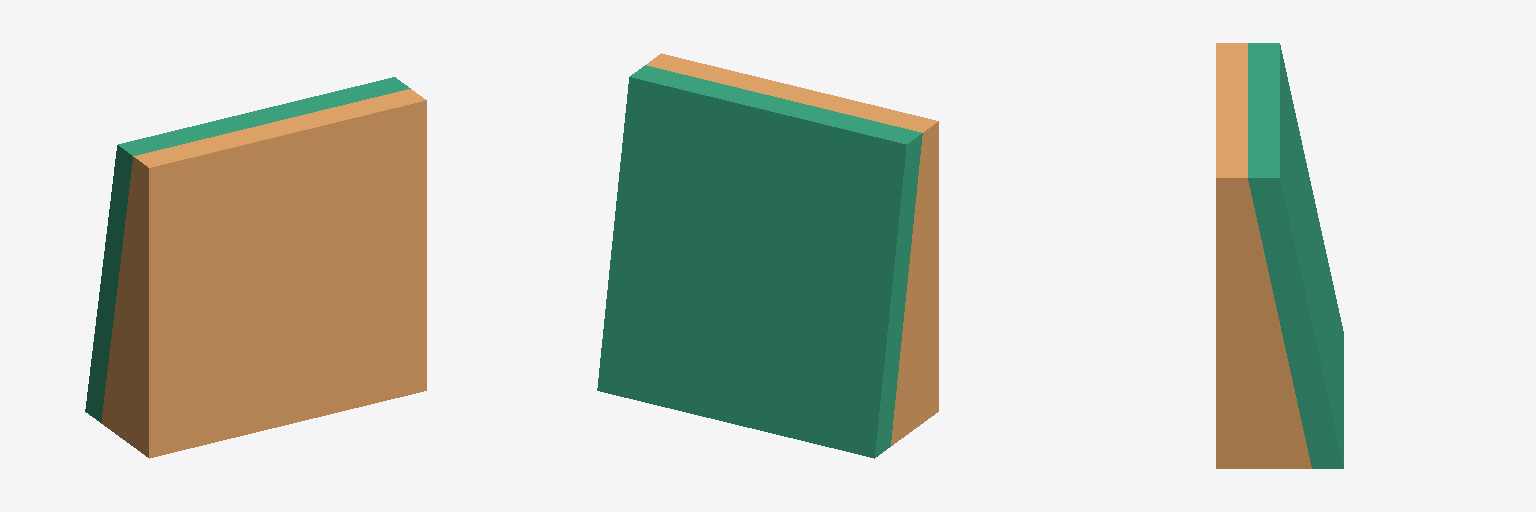
File: tile_slope.obj
The picture shows the model from 3 angles: view 1: azimuth 30°, elevation 25°; view 2: azimuth 150°, elevation 25°; view 3: azimuth 270°, elevation 25°; orthographic projection.
Visible parts, largest first — view 1: tile_slope.528; view 2: tile_slope.528; view 3: tile_slope.528.
Boxes of the visible parts, <box> form: tile_slope.528: <box>85,77,426,458</box>; tile_slope.528: <box>597,53,938,458</box>; tile_slope.528: <box>1216,43,1343,468</box>.
Size of the model in its own units: 1 by 1 by 0.4.